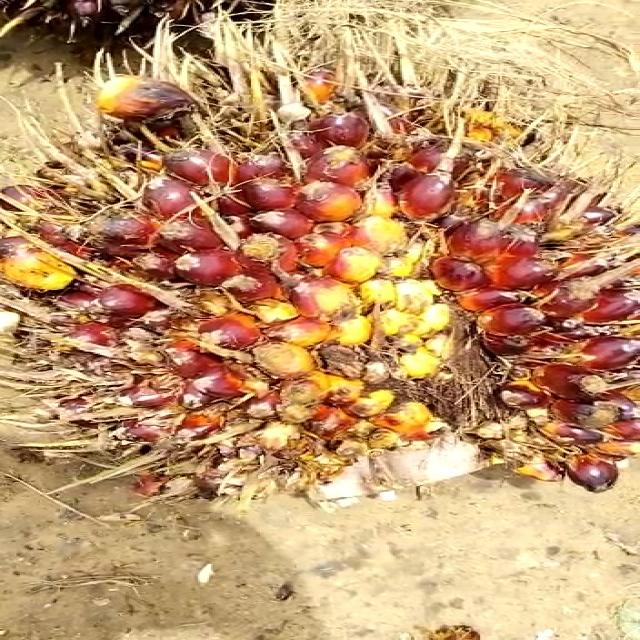palm oil: (0, 43, 640, 503)
